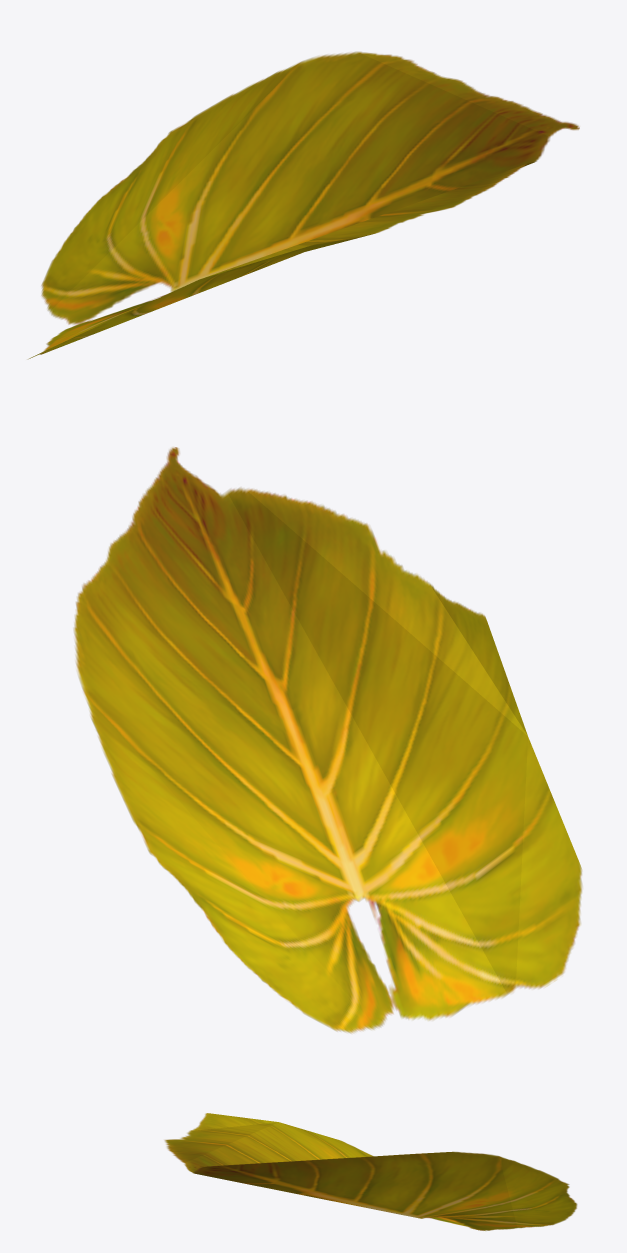
The model's file is WPlant_3_Leaf_1.gltf.
3 renders of one model, top to bottom at view 1: azimuth 30°, elevation 25°; view 2: azimuth 150°, elevation 25°; view 3: azimuth 270°, elevation 25°, orthographic. The views are drawn at different scales.
Parts seen in each view (by area): view 1: WPlant_3_Leaf_1; view 2: WPlant_3_Leaf_1; view 3: WPlant_3_Leaf_1.
Boxes of the visible parts, <box> form: WPlant_3_Leaf_1: <box>27,51,579,359</box>; WPlant_3_Leaf_1: <box>73,447,582,1033</box>; WPlant_3_Leaf_1: <box>164,1113,577,1230</box>.
Bounding box in the file's own units: 1.77 × 0.9952 × 1.95.
Materials: 1 (1 with a texture image).
